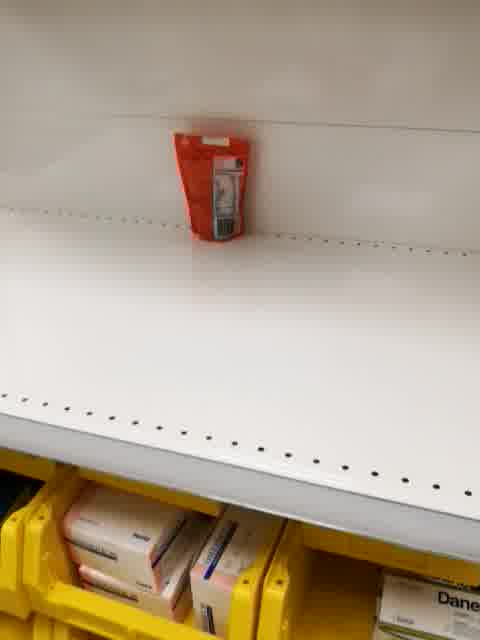whitechia: (173, 131, 253, 244)
